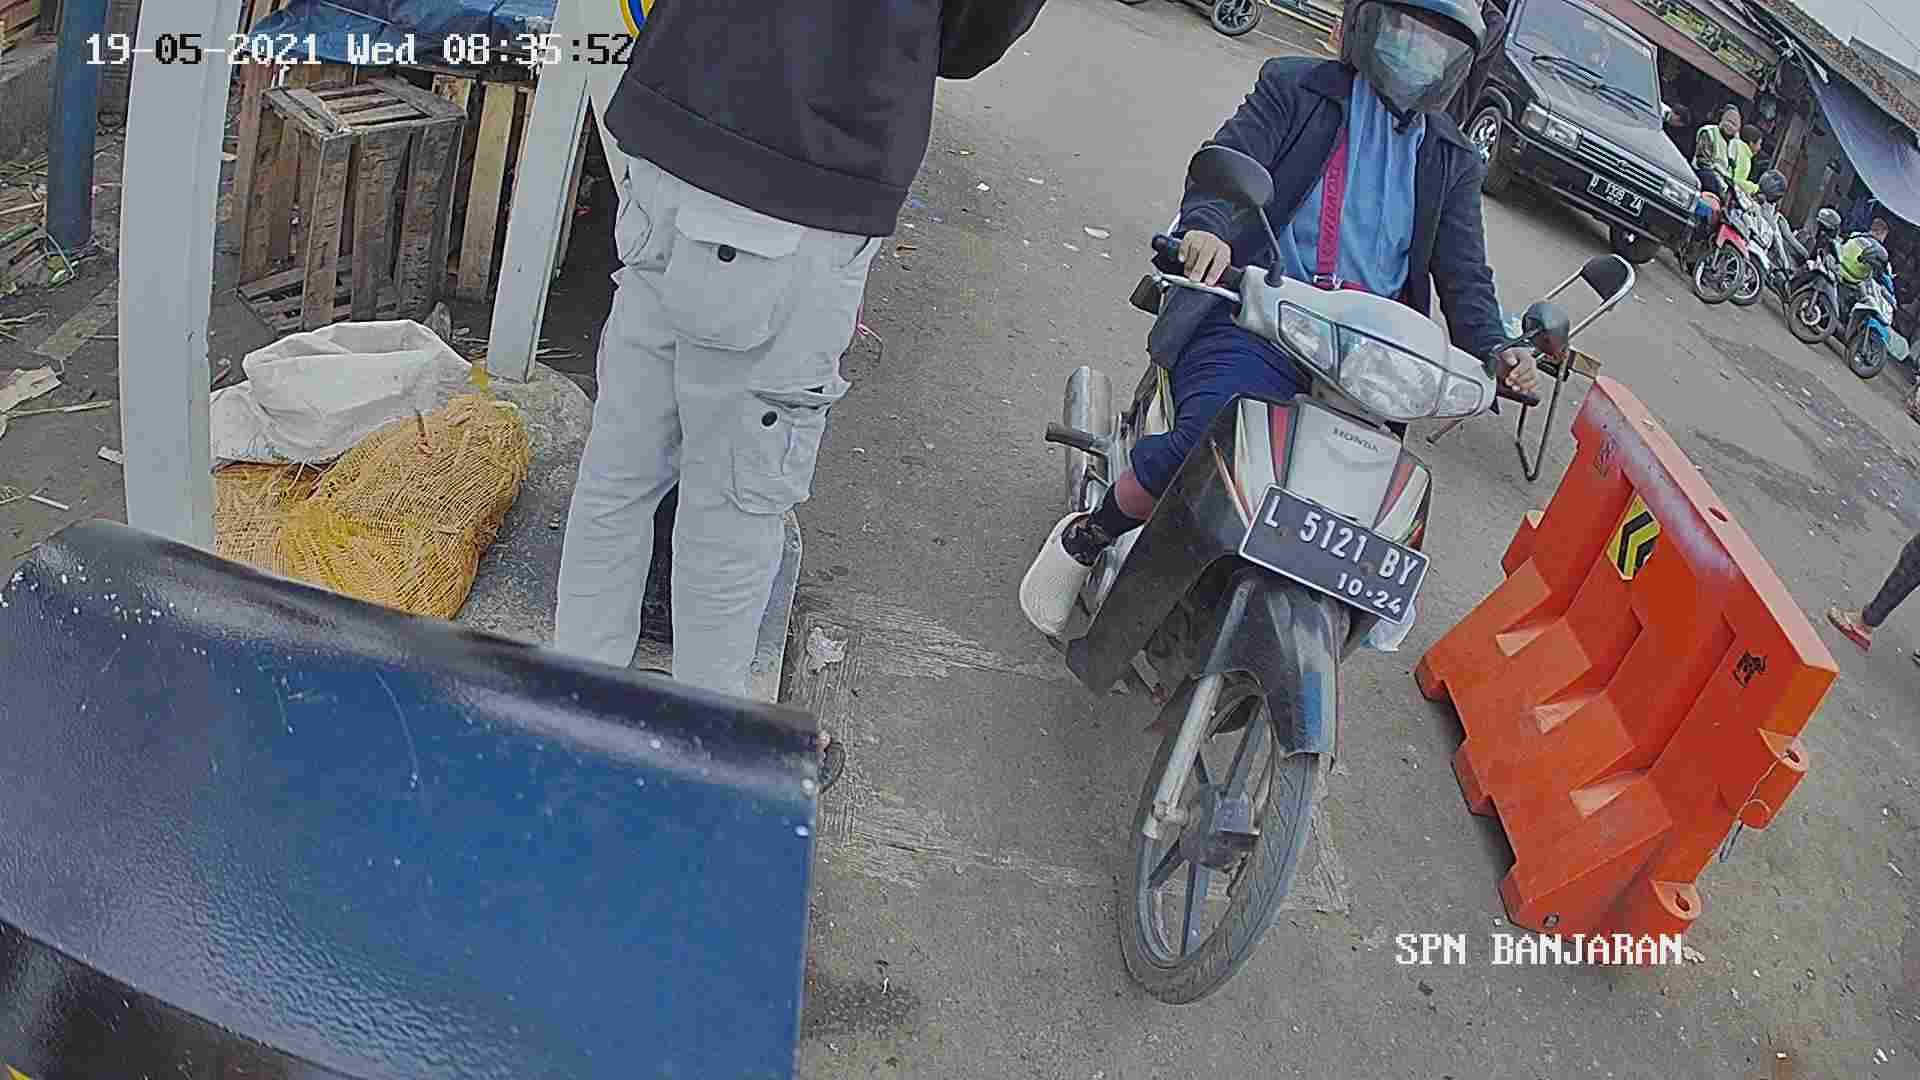motor: (1039, 194, 1425, 1001)
